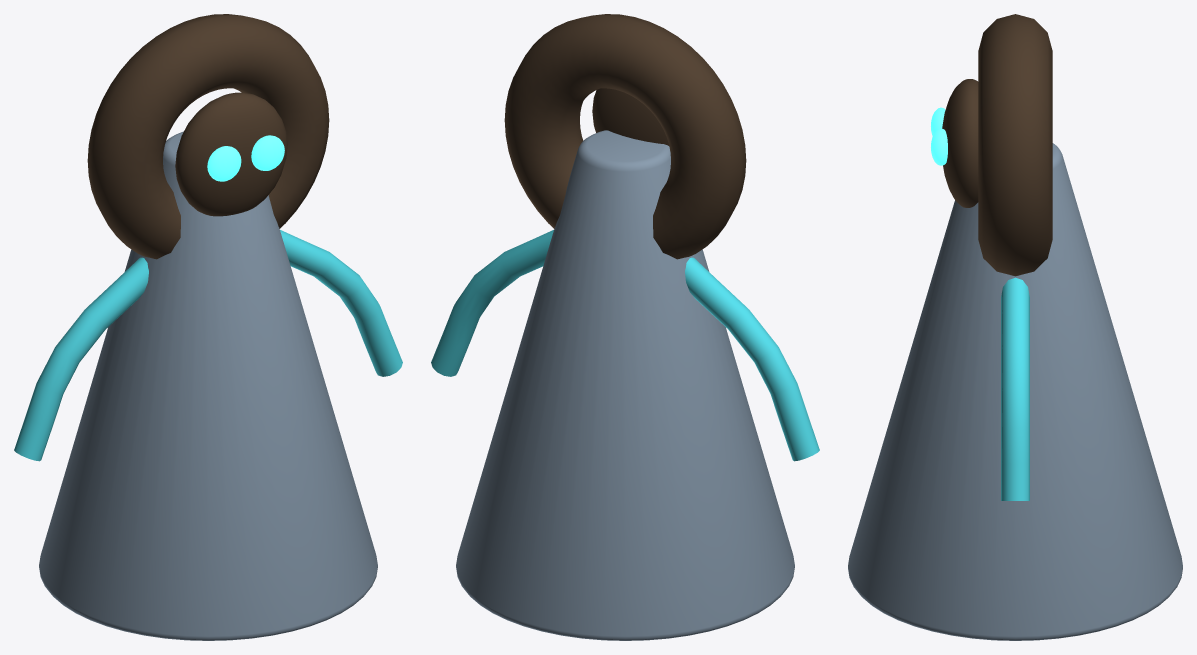
The model's file is wraith_v2.glb.
The picture shows the model from 3 angles, left to right: view 1: azimuth 30°, elevation 25°; view 2: azimuth 150°, elevation 25°; view 3: azimuth 270°, elevation 25°; orthographic projection.
Visible parts, largest first — view 1: SPECTRE_ROBE_PRIMARY, SPECTRE_HOOD_SECONDARY, VOID_FACE_SECONDARY, SPECTRE_ARM_ACCENT, SPECTRE_ARM_ACCENT.001, EYE_EMISSIVE, EYE_EMISSIVE.001; view 2: SPECTRE_ROBE_PRIMARY, SPECTRE_HOOD_SECONDARY, SPECTRE_ARM_ACCENT, SPECTRE_ARM_ACCENT.001, VOID_FACE_SECONDARY; view 3: SPECTRE_ROBE_PRIMARY, SPECTRE_HOOD_SECONDARY, SPECTRE_ARM_ACCENT.001, VOID_FACE_SECONDARY, EYE_EMISSIVE.001.
Boxes of the visible parts, x1,y1,x2,y2 form: SPECTRE_ROBE_PRIMARY: (39, 131, 377, 640); SPECTRE_HOOD_SECONDARY: (87, 14, 329, 259); VOID_FACE_SECONDARY: (175, 92, 287, 216); SPECTRE_ARM_ACCENT: (14, 257, 148, 461); SPECTRE_ARM_ACCENT.001: (280, 230, 402, 376); EYE_EMISSIVE: (207, 146, 241, 181); EYE_EMISSIVE.001: (251, 135, 284, 170); SPECTRE_ROBE_PRIMARY: (456, 130, 794, 640); SPECTRE_HOOD_SECONDARY: (504, 14, 746, 259); SPECTRE_ARM_ACCENT: (685, 257, 819, 461); SPECTRE_ARM_ACCENT.001: (431, 230, 553, 376); VOID_FACE_SECONDARY: (592, 88, 669, 145); SPECTRE_ROBE_PRIMARY: (848, 143, 1182, 640); SPECTRE_HOOD_SECONDARY: (978, 14, 1052, 276); SPECTRE_ARM_ACCENT.001: (1001, 277, 1029, 500); VOID_FACE_SECONDARY: (942, 79, 978, 207); EYE_EMISSIVE.001: (931, 128, 947, 165).
Bounding box in the file's own units: 2.13 × 2.91 × 1.62.
